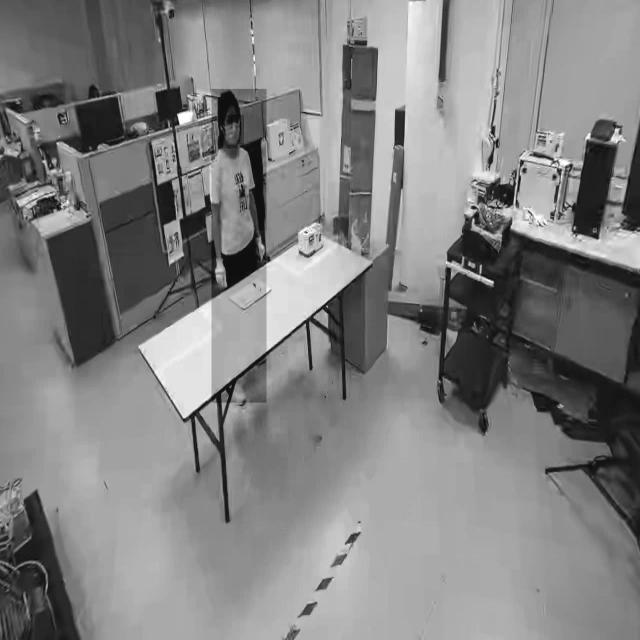face_mask: (222, 115, 244, 148)
hand_glove: (214, 251, 228, 293), (255, 230, 267, 262)
head_nohelmet: (218, 90, 240, 114)
person: (211, 89, 267, 403)
